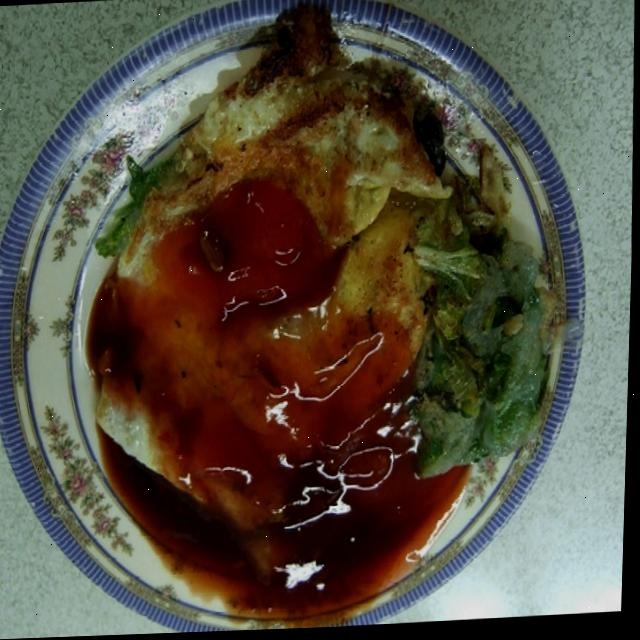熟制海鲜: (0, 0, 603, 640)
